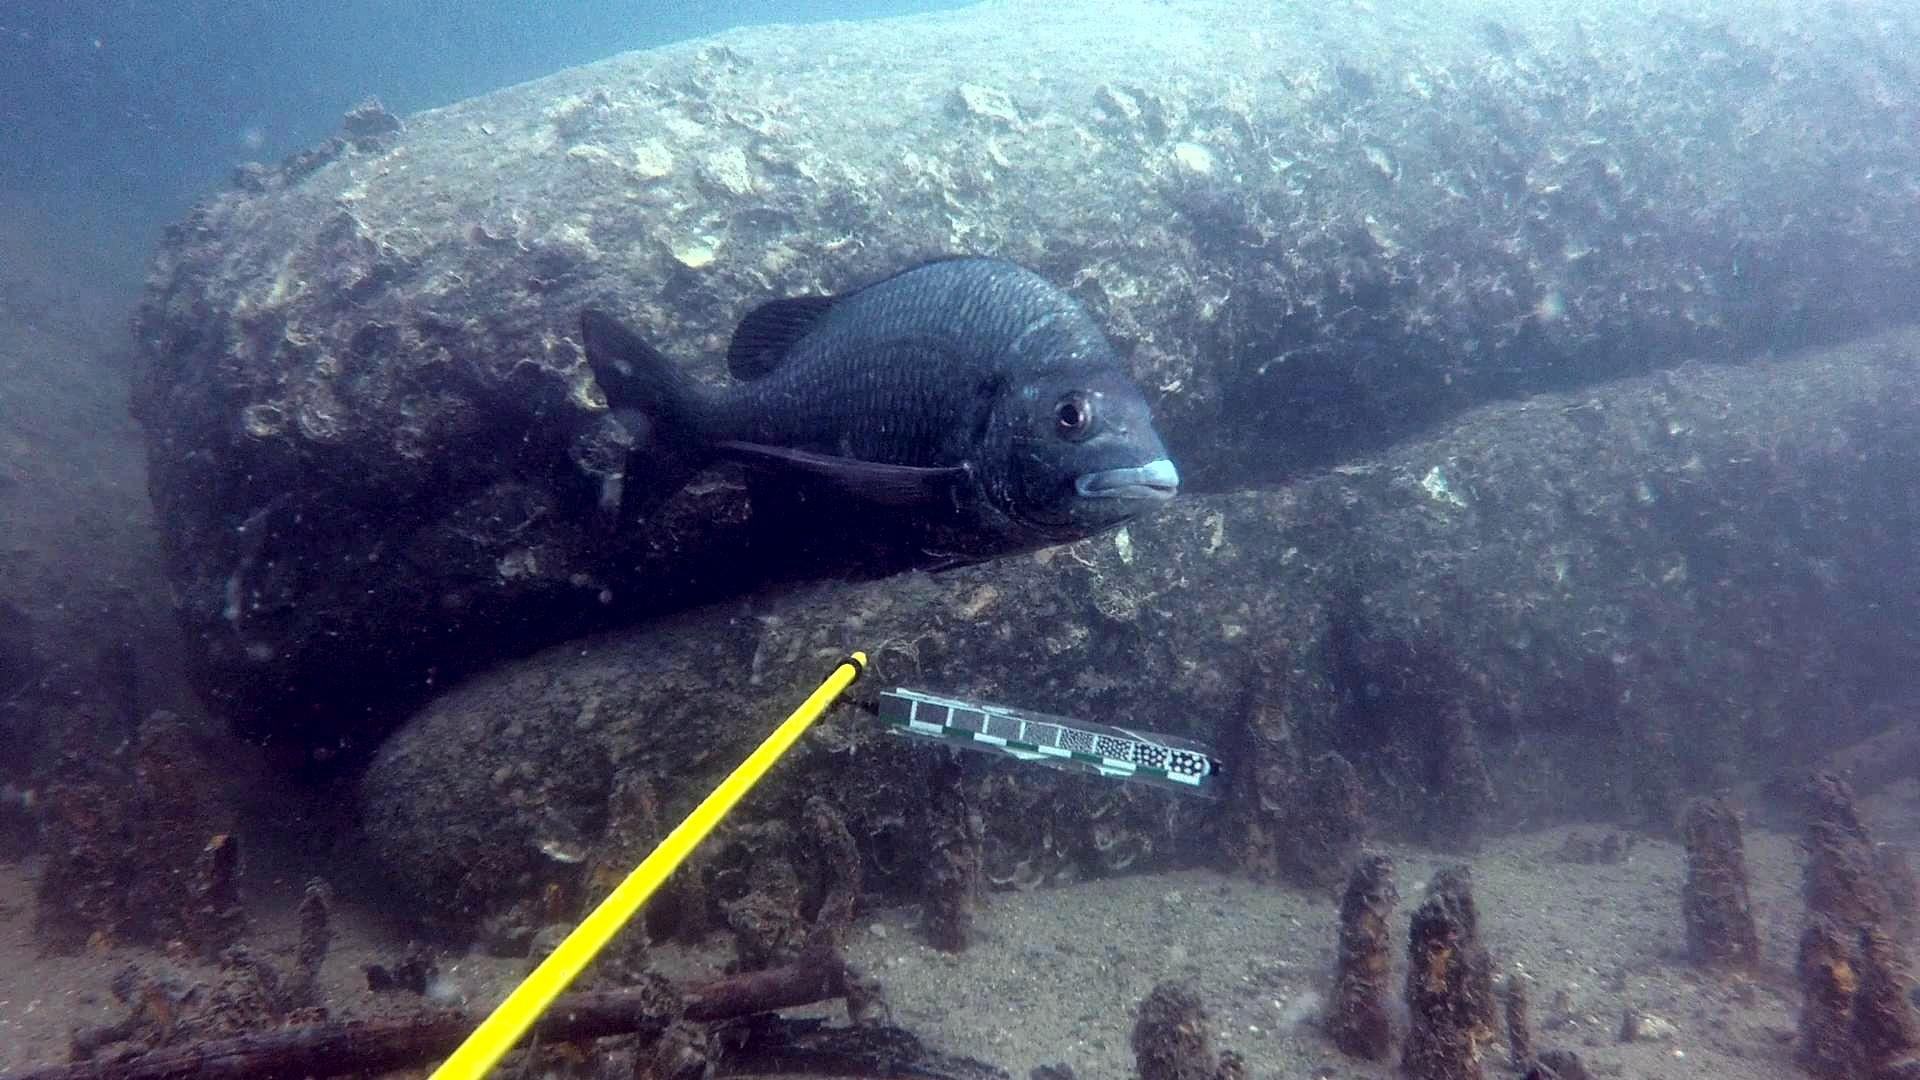acanthopagrus palmaris: (558, 248, 1191, 571)
